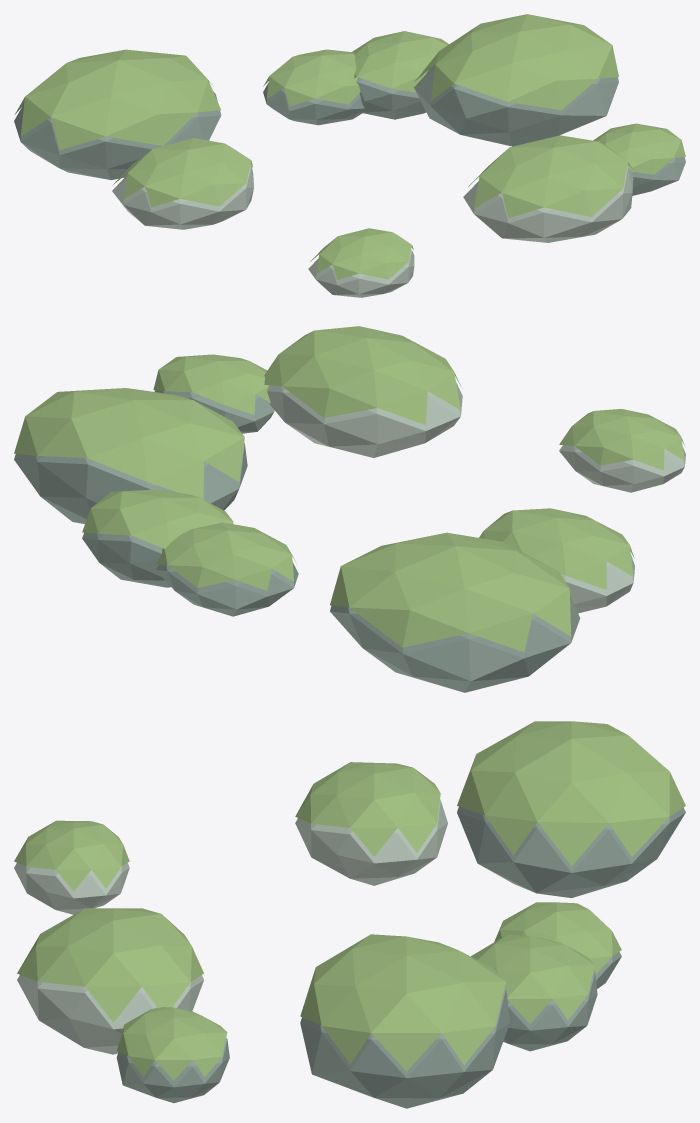
Rendered from rock-pebbles-mossy.glb.
3 renders of one model, top to bottom at view 1: azimuth 30°, elevation 25°; view 2: azimuth 150°, elevation 25°; view 3: azimuth 270°, elevation 25°, orthographic. The views are drawn at different scales.
Parts seen in each view (by area): view 1: rock-pebbles-kit-mossy-top, rock-pebbles-kit-mossy-stone, rock-pebbles-kit-mossy-light; view 2: rock-pebbles-kit-mossy-top, rock-pebbles-kit-mossy-stone, rock-pebbles-kit-mossy-light; view 3: rock-pebbles-kit-mossy-top, rock-pebbles-kit-mossy-stone, rock-pebbles-kit-mossy-light.
Part boxes in pixels (bbox=[...]): rock-pebbles-kit-mossy-top: bbox=[14, 14, 685, 279]; rock-pebbles-kit-mossy-stone: bbox=[14, 65, 685, 195]; rock-pebbles-kit-mossy-light: bbox=[112, 165, 633, 297]; rock-pebbles-kit-mossy-top: bbox=[14, 326, 685, 651]; rock-pebbles-kit-mossy-stone: bbox=[14, 390, 580, 692]; rock-pebbles-kit-mossy-light: bbox=[267, 382, 685, 613]; rock-pebbles-kit-mossy-top: bbox=[14, 721, 685, 1080]; rock-pebbles-kit-mossy-stone: bbox=[116, 806, 685, 1108]; rock-pebbles-kit-mossy-light: bbox=[14, 799, 447, 1054].
Bounding box in the file's own units: 1.6 × 0.3068 × 1.4.
